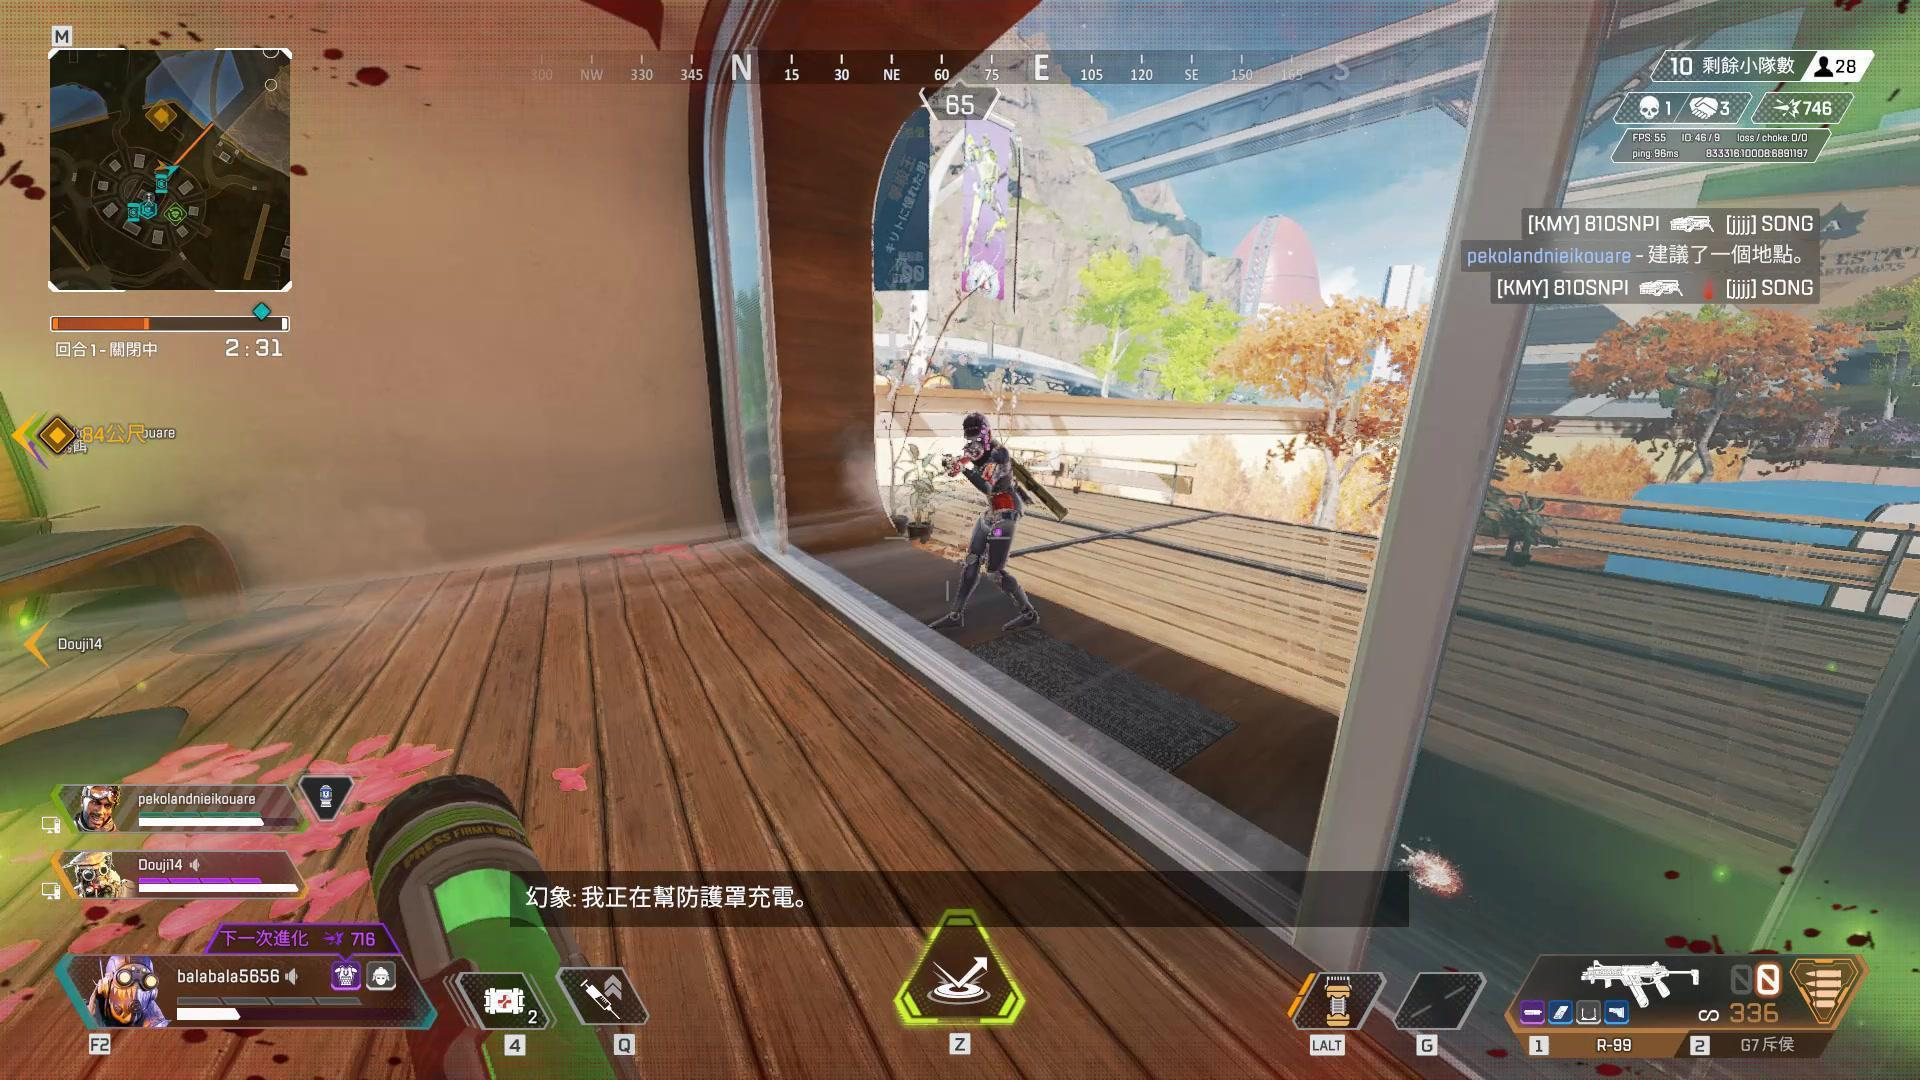avatar: (947, 409, 1042, 636)
